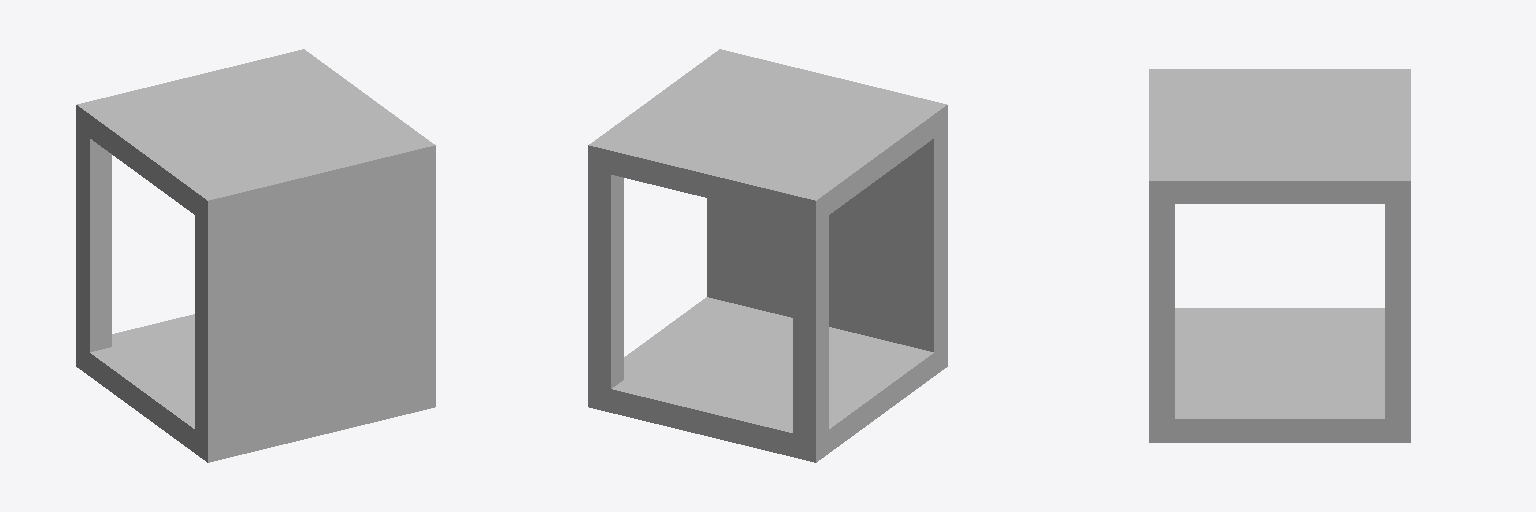
Rendered from wallSet_4.obj.
The picture shows the model from 3 angles: view 1: azimuth 30°, elevation 25°; view 2: azimuth 150°, elevation 25°; view 3: azimuth 270°, elevation 25°; orthographic projection.
Visible parts, largest first — view 1: wallSet_4_Cube.003; view 2: wallSet_4_Cube.003; view 3: wallSet_4_Cube.003.
Boxes of the visible parts, x1=… form: wallSet_4_Cube.003: x1=76, y1=49, x2=435, y2=462; wallSet_4_Cube.003: x1=588, y1=49, x2=947, y2=462; wallSet_4_Cube.003: x1=1149, y1=69, x2=1410, y2=442.
Size of the model in its own units: 2 by 2.2 by 2.